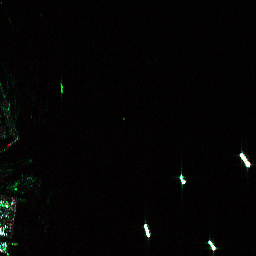ship: (237, 150, 254, 170), (206, 237, 219, 253), (142, 222, 152, 238), (178, 172, 187, 185)
